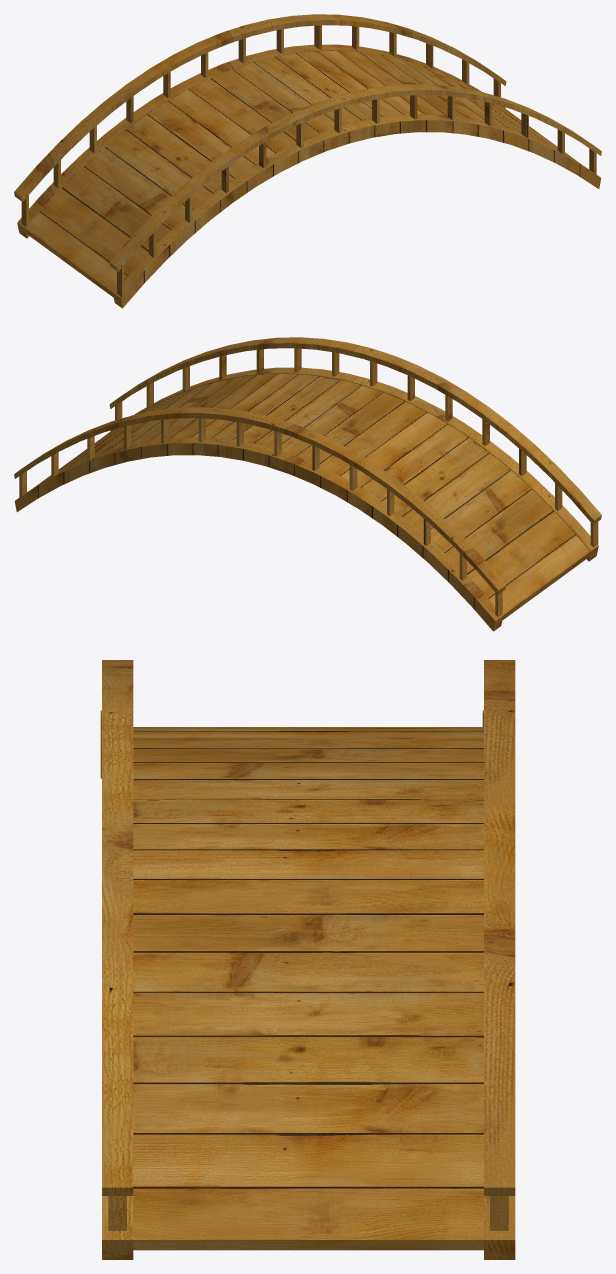
File: bridge2.fbx
3 renders of one model, top to bottom at view 1: azimuth 30°, elevation 25°; view 2: azimuth 150°, elevation 25°; view 3: azimuth 270°, elevation 25°, orthographic. The views are drawn at different scales.
Visible parts, largest first — view 1: Cylinder.037, Cylinder.036, Cylinder.038, Cylinder.040, Cylinder.039; view 2: Cylinder.037, Cylinder.039, Cylinder.038, Cylinder.040, Cylinder.036; view 3: Cylinder.037, Cylinder.038, Cylinder.040, Cylinder.036, Cylinder.039.
Part boxes in pixels (x1,y1,x2,y2): Cylinder.037: (25,50,581,297); Cylinder.036: (112,114,601,308); Cylinder.038: (109,84,601,271); Cylinder.040: (14,14,506,201); Cylinder.039: (17,44,505,238); Cylinder.037: (34,373,590,620); Cylinder.039: (14,437,503,631); Cylinder.038: (109,337,601,524); Cylinder.040: (14,407,506,594); Cylinder.036: (110,367,598,561); Cylinder.037: (133,727,483,1250); Cylinder.038: (102,660,133,1195); Cylinder.040: (484,660,515,1195); Cylinder.036: (102,1196,133,1259); Cylinder.039: (484,1196,515,1259).
Bounding box in the file's own units: 3272 × 987 × 1212.
1 material, 1 textured.
